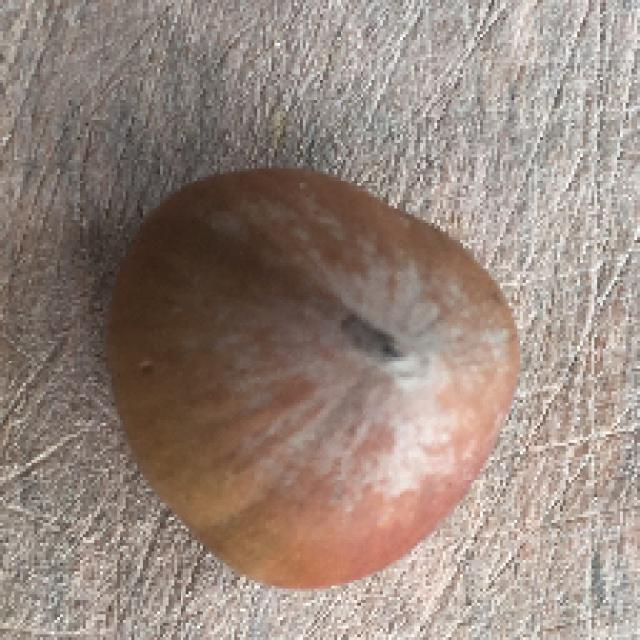qualityHazelnut: (112, 163, 516, 589)
